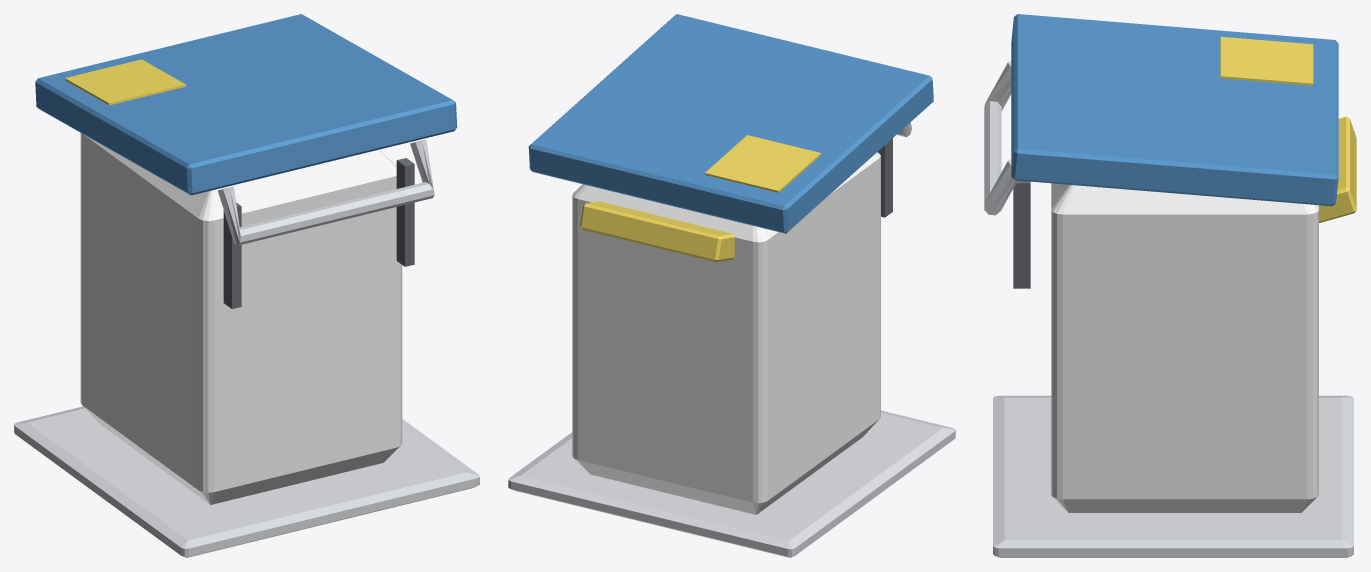
The model's file is public-swimming-baths-and-poolside-swimming-starting-b-8a40c804__35245.glb.
The picture shows the model from 3 angles, left to right: view 1: azimuth 30°, elevation 25°; view 2: azimuth 150°, elevation 25°; view 3: azimuth 270°, elevation 25°; orthographic projection. The views are drawn at different scales.
Parts seen in each view (by area): view 1: swimming-starting-block; view 2: swimming-starting-block; view 3: swimming-starting-block.
Boxes of the visible parts, <box> form: swimming-starting-block: <box>14,14,479,557</box>; swimming-starting-block: <box>508,14,955,557</box>; swimming-starting-block: <box>984,14,1356,557</box>.
Size of the model in its own units: 0.62 by 0.7644 by 0.64.
